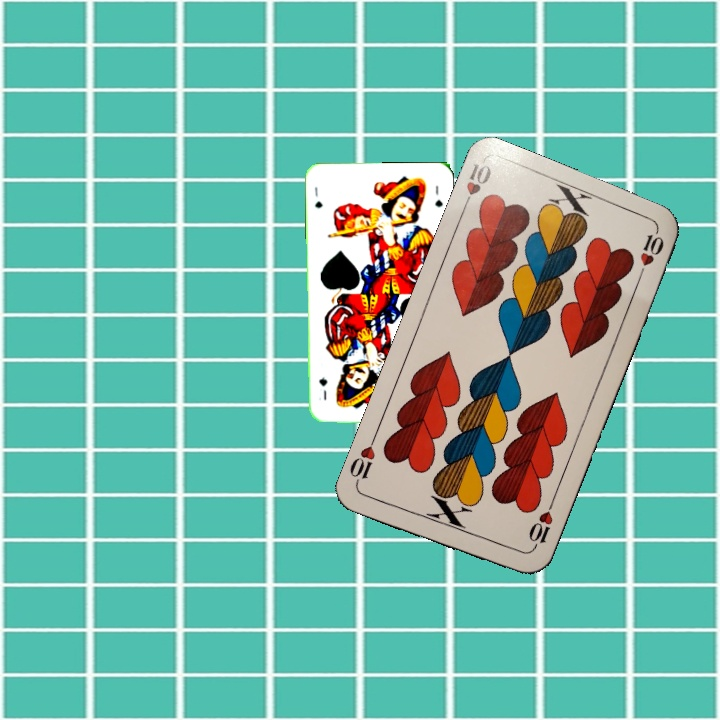GU: (311, 183, 325, 211)
H10: (457, 159, 494, 215), (524, 498, 556, 555)
